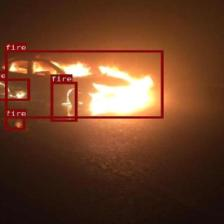fire: (4, 50, 162, 118), (50, 81, 77, 121), (0, 78, 29, 99), (4, 116, 25, 129)
